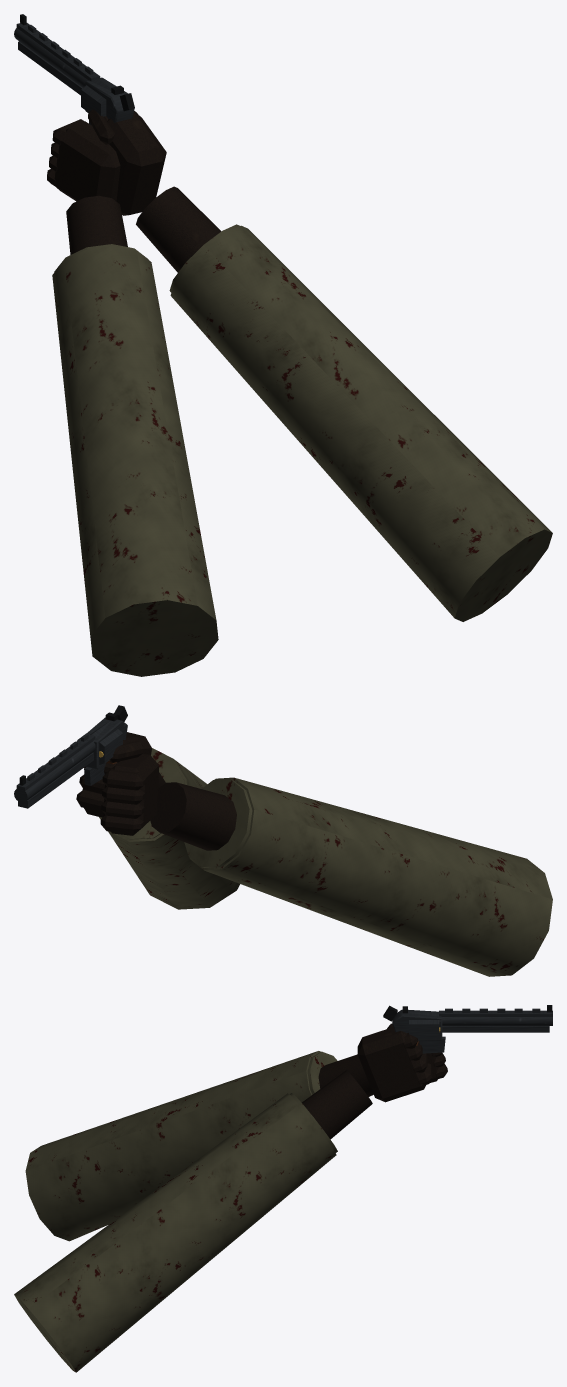
The model's file is python.gltf.
The picture shows the model from 3 angles, top to bottom: view 1: azimuth 30°, elevation 25°; view 2: azimuth 150°, elevation 25°; view 3: azimuth 270°, elevation 25°; orthographic projection. The views are drawn at different scales.
Visible parts, largest first — view 1: Body, ArmL; view 2: ArmL, Body, Mag; view 3: Body, ArmL, Mag.
Part boxes in pixels (left/top/right/bottom): Body: left=14, top=14, right=552, bottom=621; ArmL: left=47, top=119, right=218, bottom=676; ArmL: left=100, top=754, right=552, bottom=976; Body: left=14, top=705, right=239, bottom=909; Mag: left=77, top=721, right=122, bottom=764; Body: left=14, top=1005, right=552, bottom=1372; ArmL: left=25, top=1051, right=447, bottom=1241; Mag: left=409, top=1012, right=440, bottom=1038.
Size of the model in its own units: 0.5923 by 0.5093 by 0.8028.
6 materials, 5 textured.
